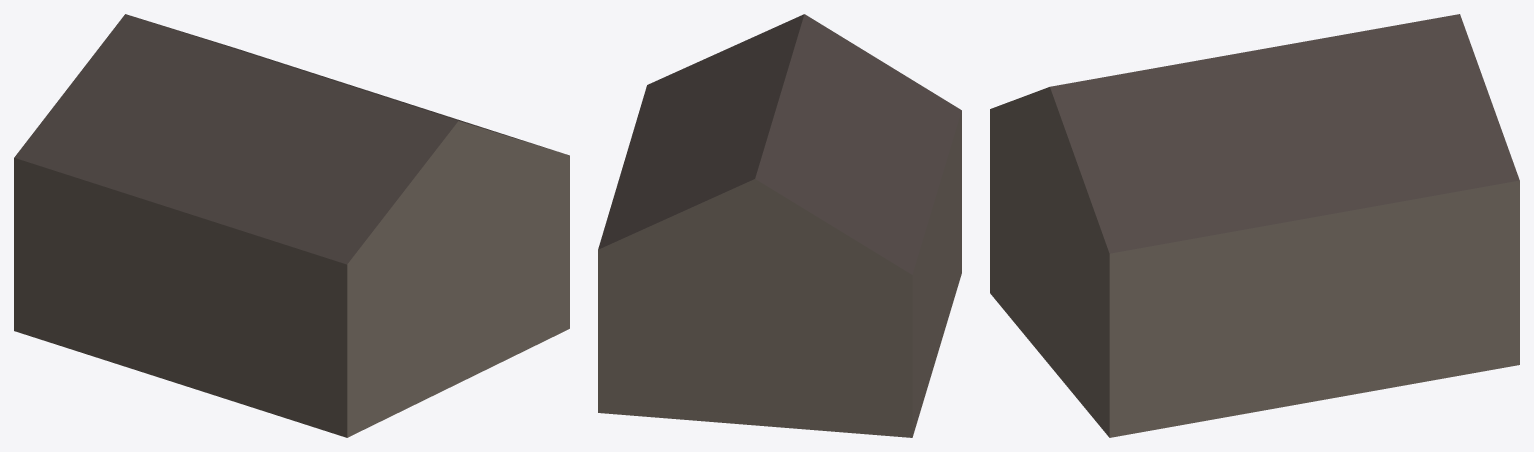
3 renders of one model, left to right at view 1: azimuth 30°, elevation 25°; view 2: azimuth 150°, elevation 25°; view 3: azimuth 270°, elevation 25°, orthographic. The views are drawn at different scales.
Visible parts, largest first — view 1: HP-w1198664275; view 2: HP-w1198664275; view 3: HP-w1198664275.
Part boxes in pixels (x1=…): HP-w1198664275: x1=14, y1=14, x2=569, y2=437; HP-w1198664275: x1=598, y1=14, x2=961, y2=437; HP-w1198664275: x1=990, y1=14, x2=1519, y2=437.
Bounding box in the file's own units: 15.18 × 9.08 × 15.63.
